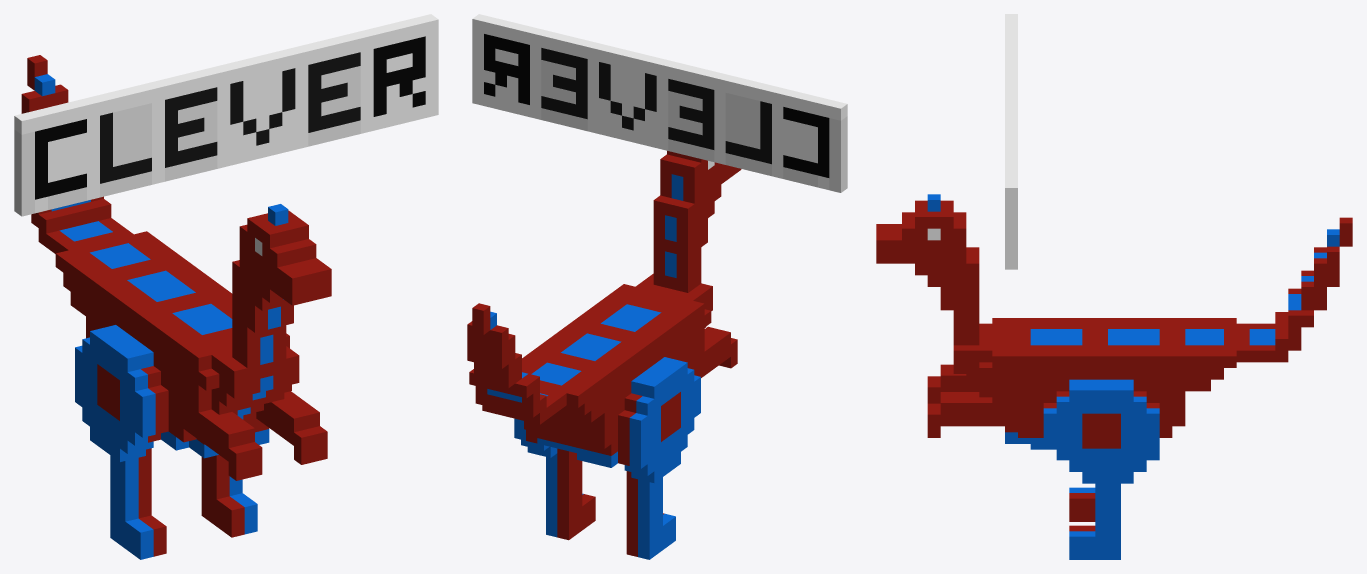
Rendered from dino-q0-e.obj.
3 renders of one model, left to right at view 1: azimuth 30°, elevation 25°; view 2: azimuth 150°, elevation 25°; view 3: azimuth 270°, elevation 25°, orthographic. The views are drawn at different scales.
Visible parts, largest first — view 1: Matrix_10; view 2: Matrix_10; view 3: Matrix_10.
Part boxes in pixels (left/top/right/bottom): Matrix_10: left=14, top=14, right=438, bottom=559; Matrix_10: left=467, top=14, right=847, bottom=559; Matrix_10: left=876, top=14, right=1352, bottom=559.
Bounding box in the file's own units: 32 × 37 × 37.
1 material, 1 textured.
